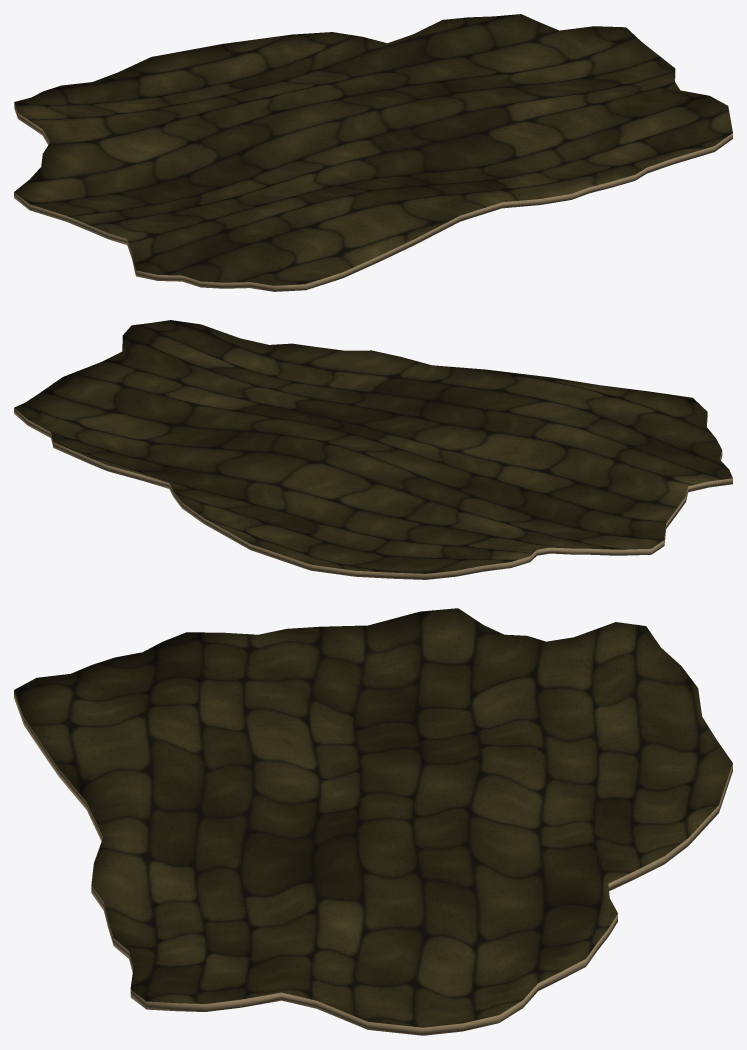
The model's file is hide.glb.
The picture shows the model from 3 angles, top to bottom: view 1: azimuth 30°, elevation 25°; view 2: azimuth 150°, elevation 25°; view 3: azimuth 270°, elevation 25°; orthographic projection. The views are drawn at different scales.
Visible parts, largest first — view 1: Crocodile hide — raw olive scutes; view 2: Crocodile hide — raw olive scutes; view 3: Crocodile hide — raw olive scutes.
Boxes of the visible parts, x1,y1,x2,y2 form: Crocodile hide — raw olive scutes: (14,14,732,291); Crocodile hide — raw olive scutes: (14,320,732,579); Crocodile hide — raw olive scutes: (14,608,732,1035).
Size of the model in its own units: 0.4357 by 0.0266 by 0.323.
3 materials, 1 textured.
